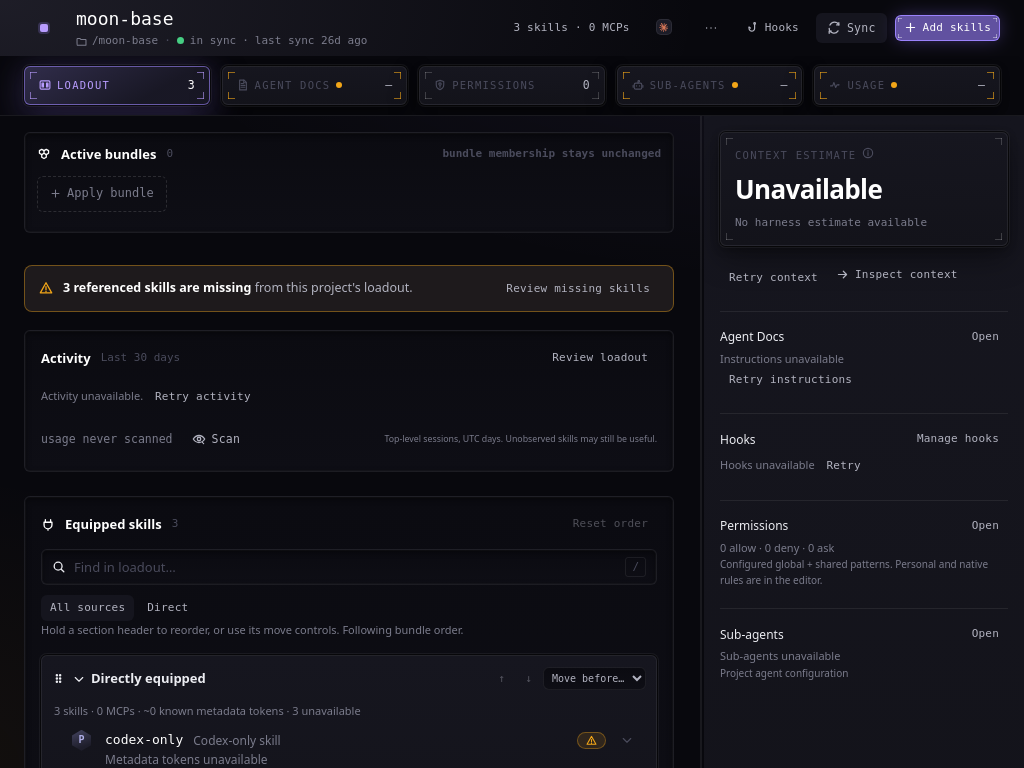
Test case: Loadout missing-refs badge + banner (PR3 unit C) › keeps partial success out of retries and locks selection during a write
This screenshot has width=1024, height=768.
Click the button "Review missing skills" at (578, 288), box [497,276,659,301]
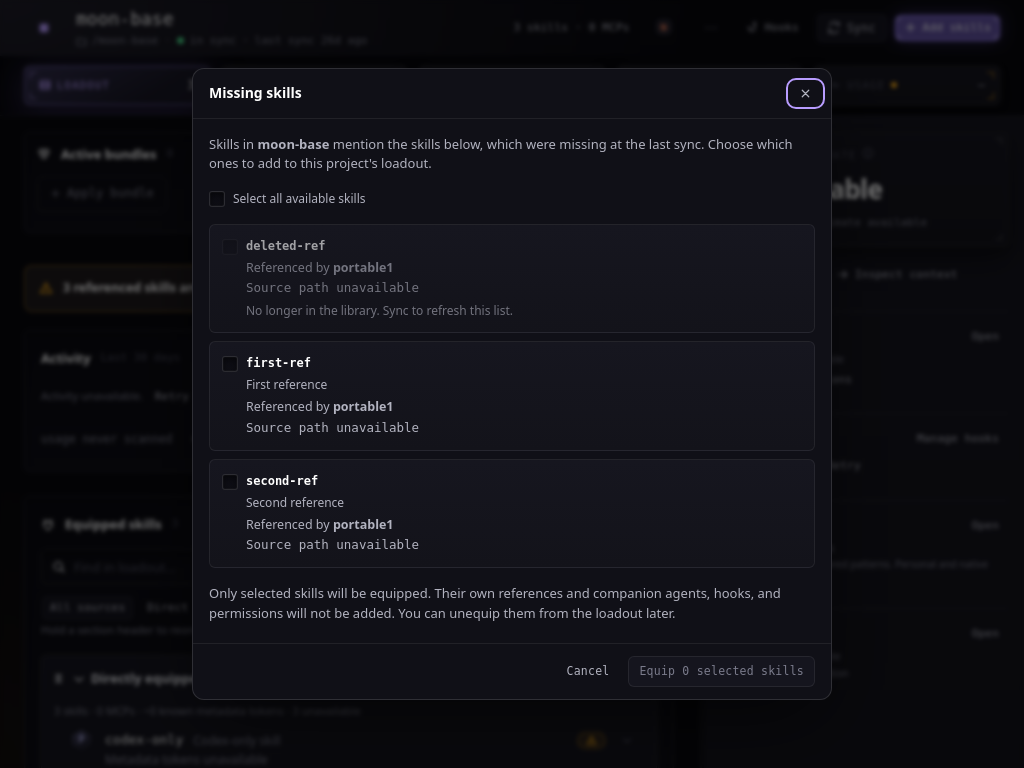
Expected: the checkbox named "Select deleted-ref" is disabled, [222,239,513,319]
Click the checkbox labelled "Select all available skills" at (287, 198), box [209,190,366,207]
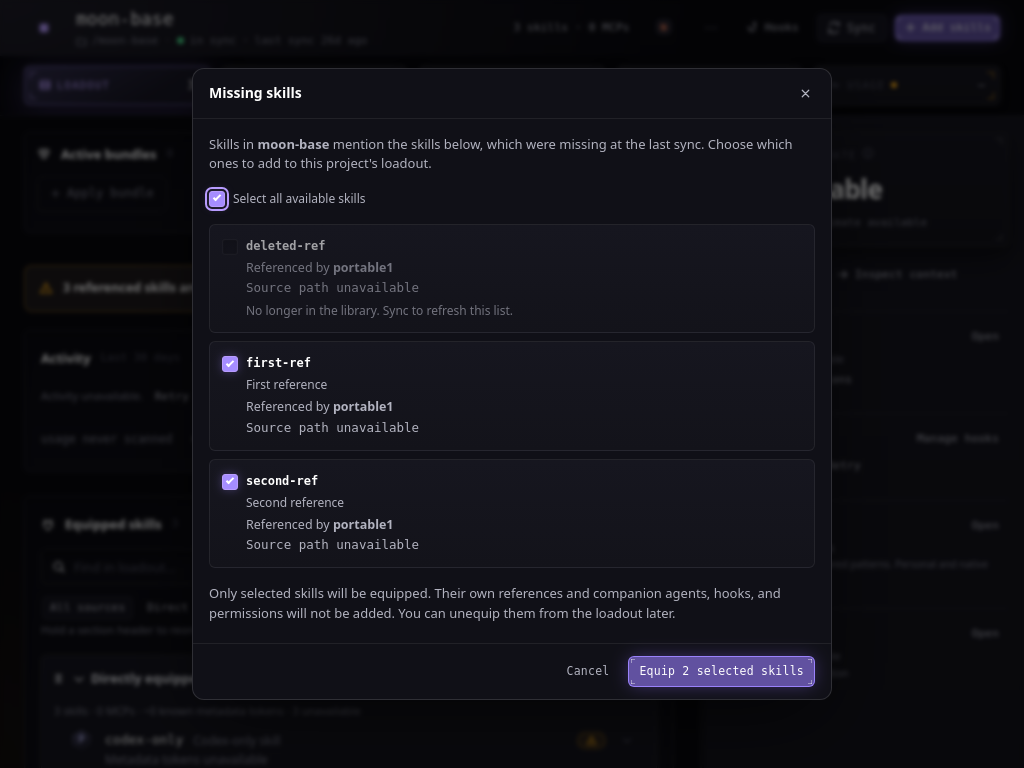
Click the button "Equip 2 selected skills" at (722, 671), box [628,656,815,687]
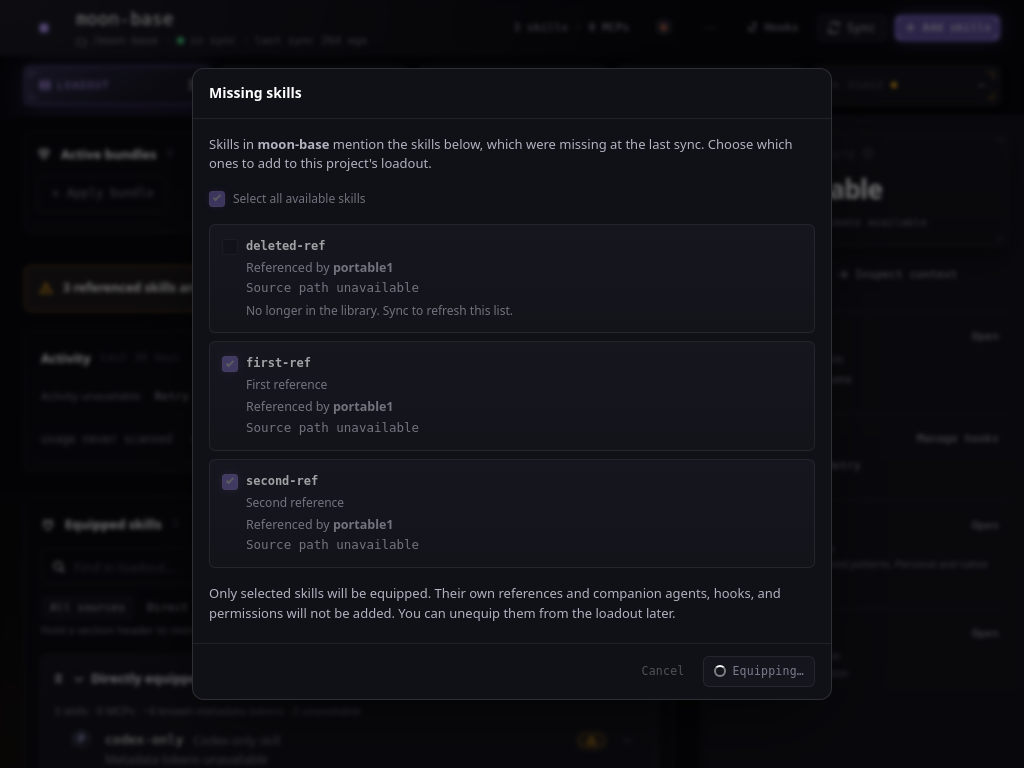
Expected: the checkbox named "Select second-ref" is disabled, [222,474,419,552]
Expected: the button "Cancel" is disabled, [630,656,695,687]
Press Escape
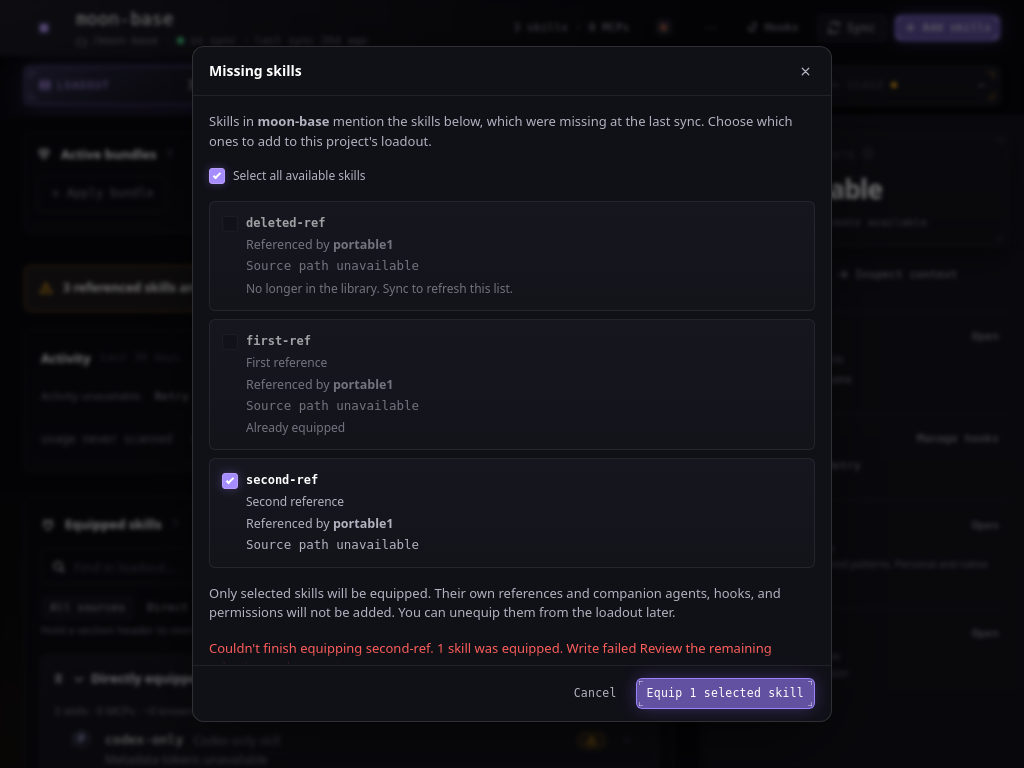
Expected: the dialog is shown, [192,46,832,722]
Expected: the checkbox named "Select first-ref" is disabled, [222,334,419,436]
Expected: the message shows "1 skill was equipped", [209,639,772,665]
Click the button "Equip 1 selected skill" at (725, 694), box [636,678,815,709]
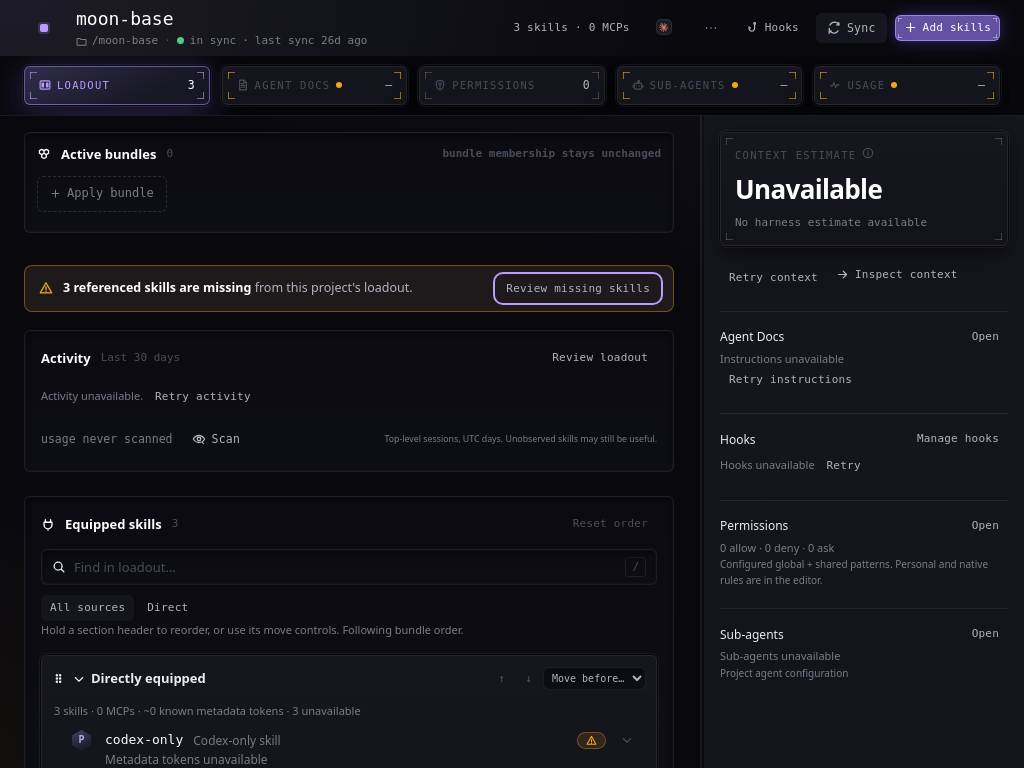
Expected: the dialog is gone
